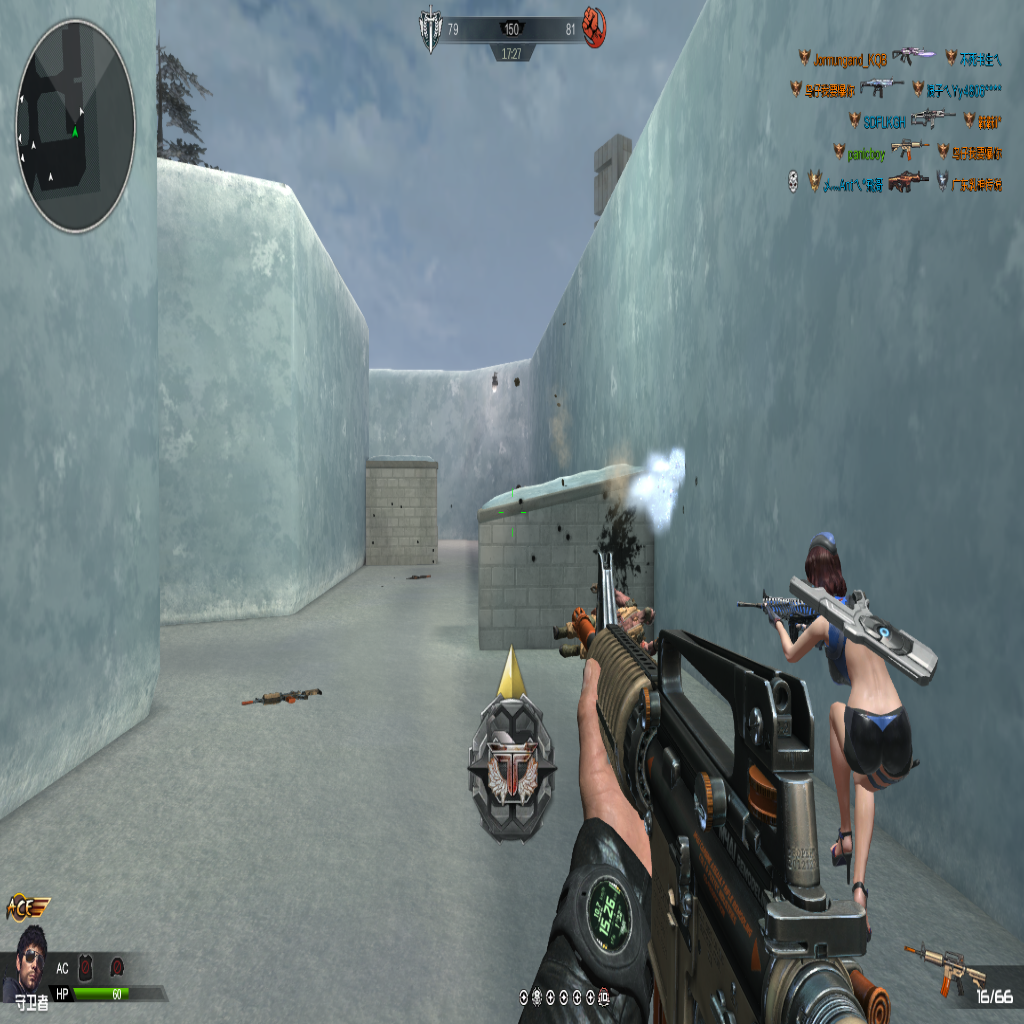ct: (779, 529, 914, 926)
